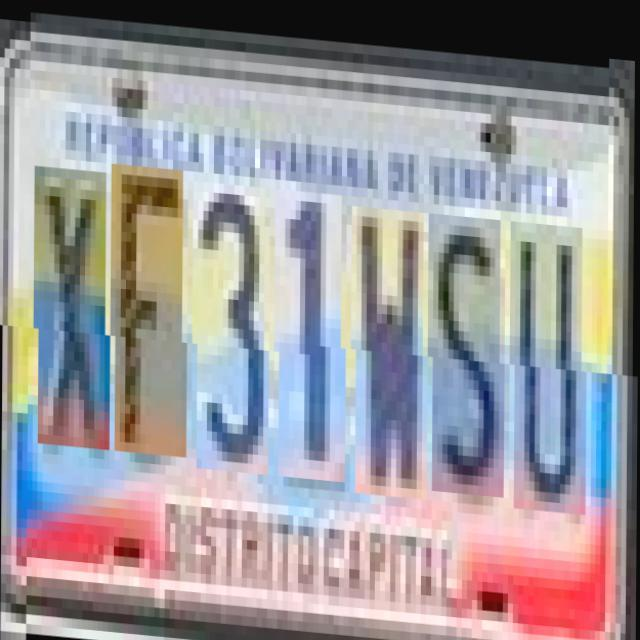1: (279, 184, 347, 476)
3: (197, 178, 270, 470)
F: (115, 162, 188, 454)
S: (432, 205, 506, 487)
U: (514, 211, 588, 503)
W: (356, 199, 428, 491)
X: (38, 166, 112, 448)
